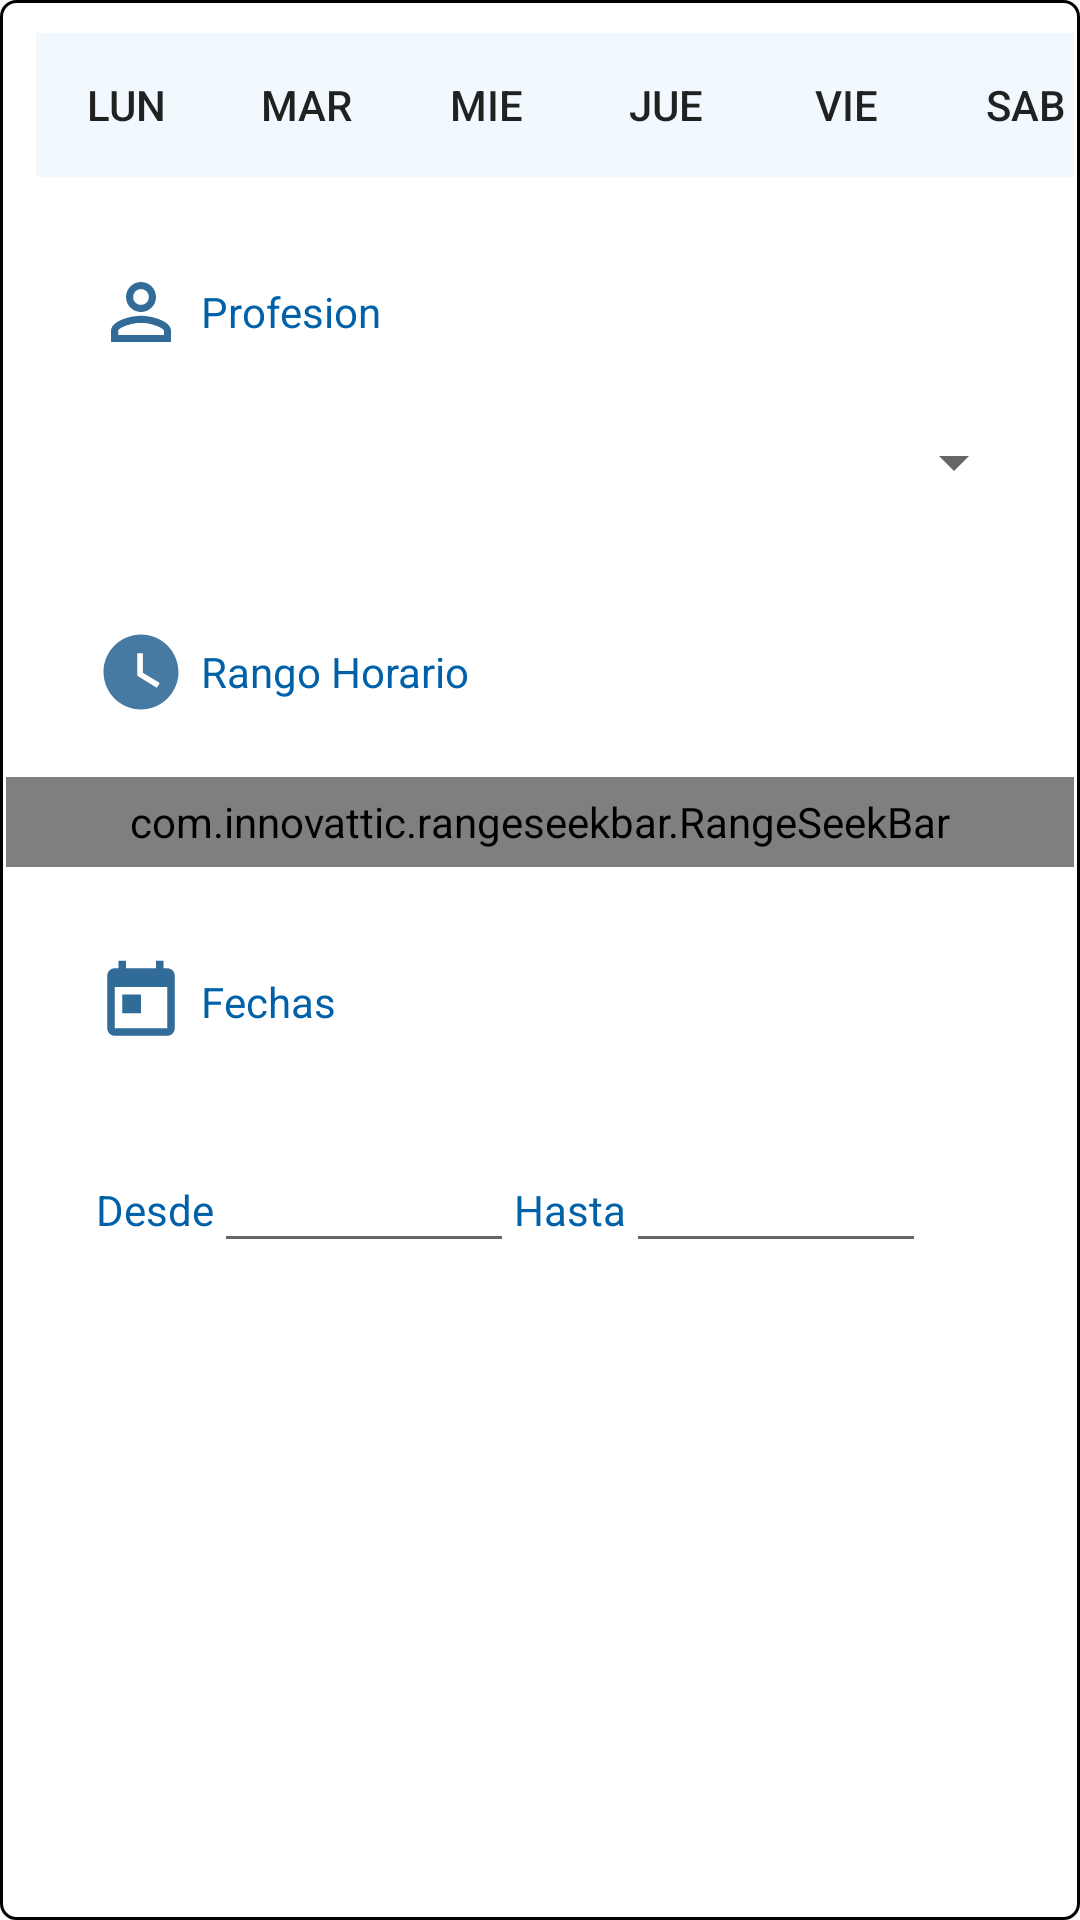

Named icons in this screenshot (1080px×1920px) and their centers, (x=x, y=y):
date: (x=141, y=998)
user: (x=141, y=312)
